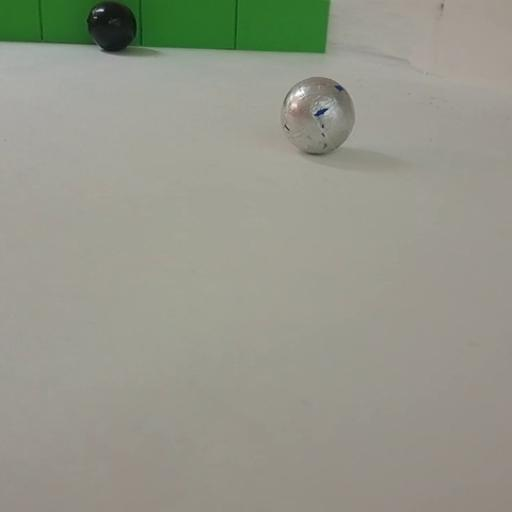alive: (280, 78, 354, 155)
dead: (87, 1, 137, 52)
